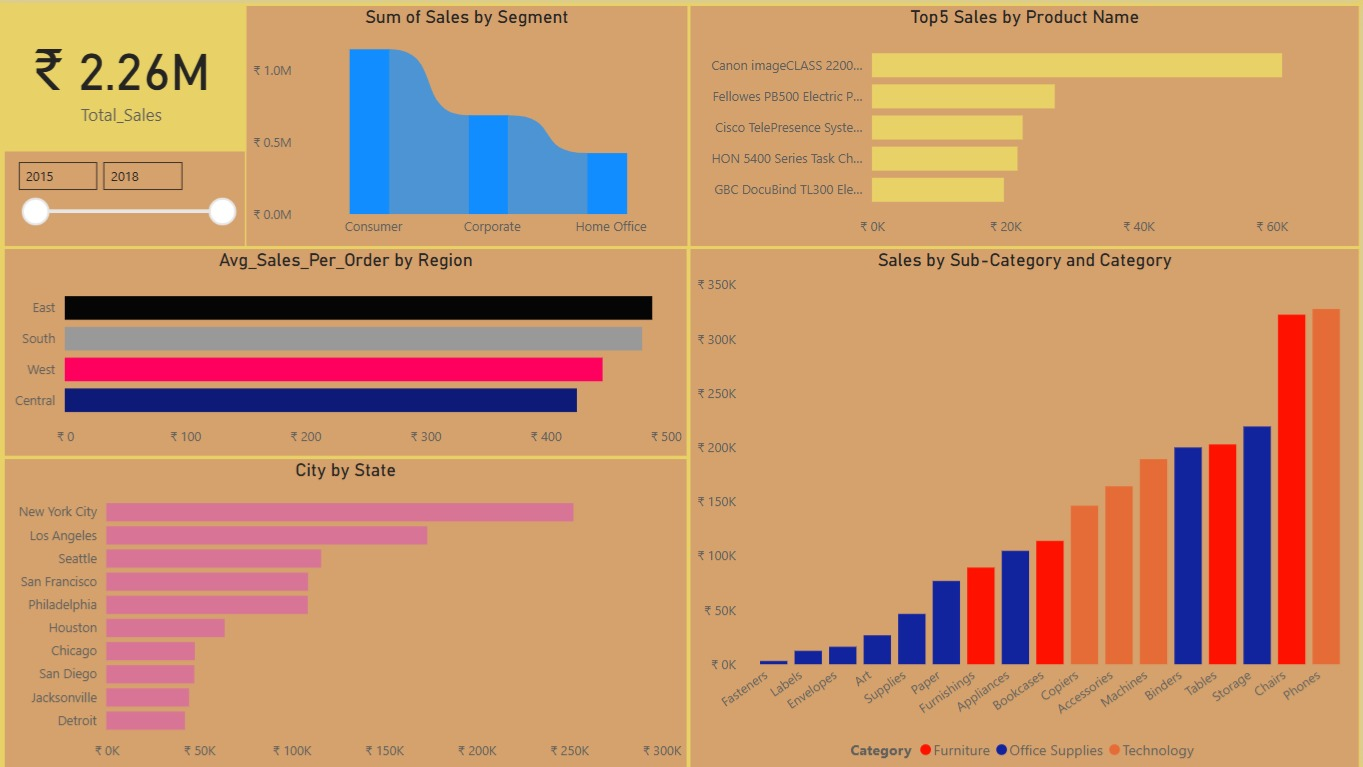

The dashboard page shown, as its layout file describes it:
{"tool":"powerbi","page":{"name":"Page 2","canvas":[1280,720],"ordinal":1},"visuals":[{"type":"ribbonChart","fields":{"Category":["Table.Segment"],"Y":["Sum(Table.Sales)"]},"box":[235,2.5,413.8,225],"z":0},{"type":"clusteredBarChart","title":"Top5 Sales by Product Name","fields":{"Category":["Table.Product Name"],"Y":["Sum(Table.Sales)"]},"box":[652.5,2.5,627.5,225],"z":1000},{"type":"slicer","fields":{"Values":["Table.Year"]},"box":[8.8,138.8,225,88.8],"z":2000},{"type":"lineStackedColumnComboChart","title":"Sales by Sub-Category and Category","fields":{"Category":["Table.Sub-Category"],"Y":["Sum(Table.Sales)"],"Series":["Table.Category"]},"box":[652.5,231.2,627.5,488.8],"z":3000},{"type":"card","fields":{"Values":["Table.Total_Sales"]},"box":[0,0,235,138.3],"z":4000},{"type":"barChart","title":"City by State","fields":{"Y":["Sum(Table.Sales)"],"Category":["Table.City"]},"box":[8.3,428.3,640,291.7],"z":5000},{"type":"barChart","fields":{"Y":["Table.Avg_Sales_Per_Order"],"Category":["Table.Region"]},"box":[8.3,231.7,640,194.2],"z":6000}]}

Visuals, with their boxes in screenshot pixels (x1, y1, x2, y2), scaled from the page's 1280x720 canvas onto the 1363x767 screenshot:
ribbonChart - Table.Segment x Sum(Table.Sales): 250 3 691 242
"Top5 Sales by Product Name" clusteredBarChart: 695 3 1362 242
slicer - Table.Year: 9 148 249 242
"Sales by Sub-Category and Category" lineStackedColumnComboChart: 695 246 1362 766
card - Table.Total_Sales: 0 0 250 147
"City by State" barChart: 9 456 690 766
barChart - Table.Avg_Sales_Per_Order x Table.Region: 9 247 690 454
